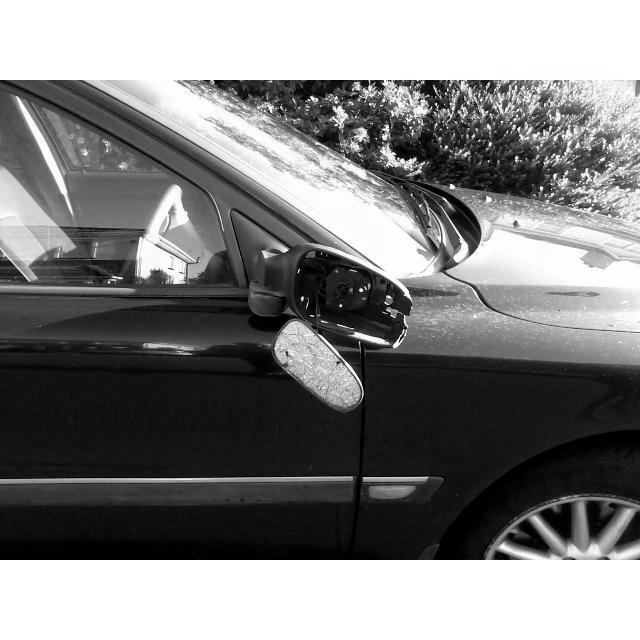Sidemirror-Damage: (264, 253, 420, 398)
